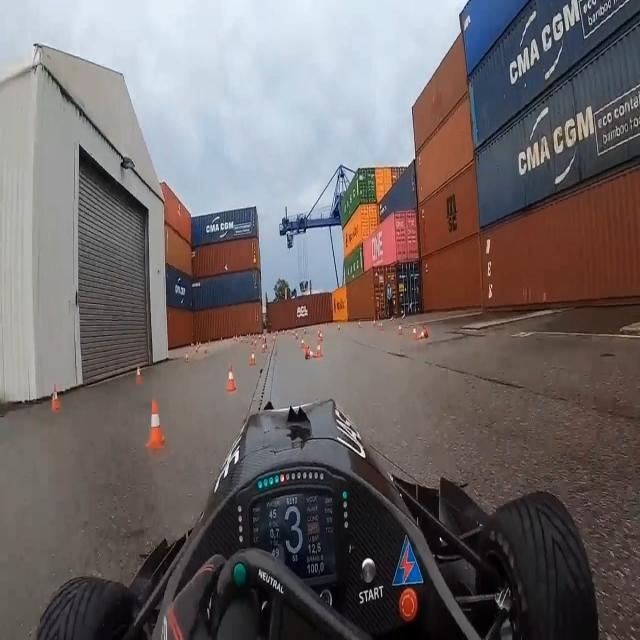Orange cone: (140, 388, 171, 459), (404, 319, 432, 359), (222, 357, 243, 401), (45, 378, 65, 418), (245, 336, 260, 378), (130, 354, 146, 391), (314, 329, 328, 366)
